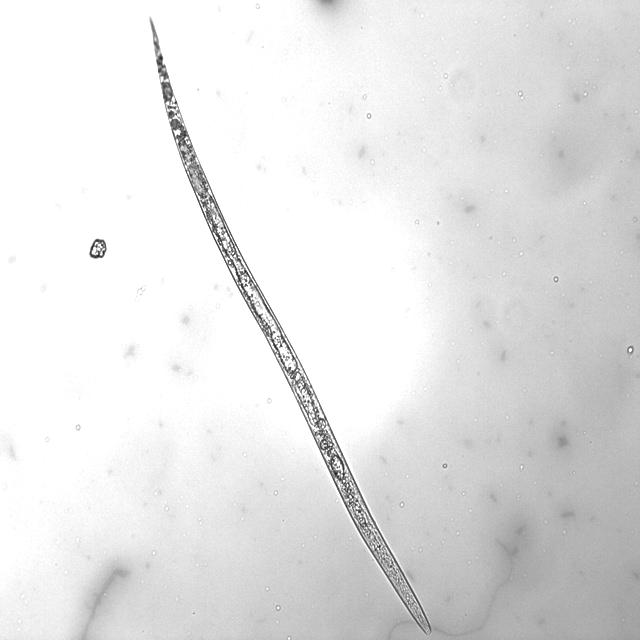Meloidogyne: (149, 9, 436, 636)
